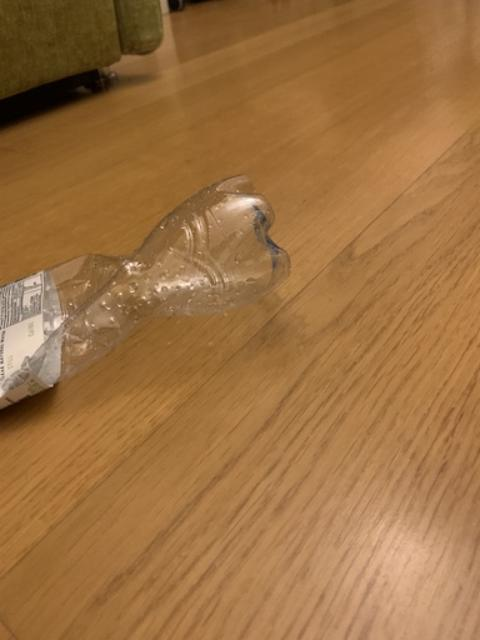plastic: (0, 174, 288, 405)
